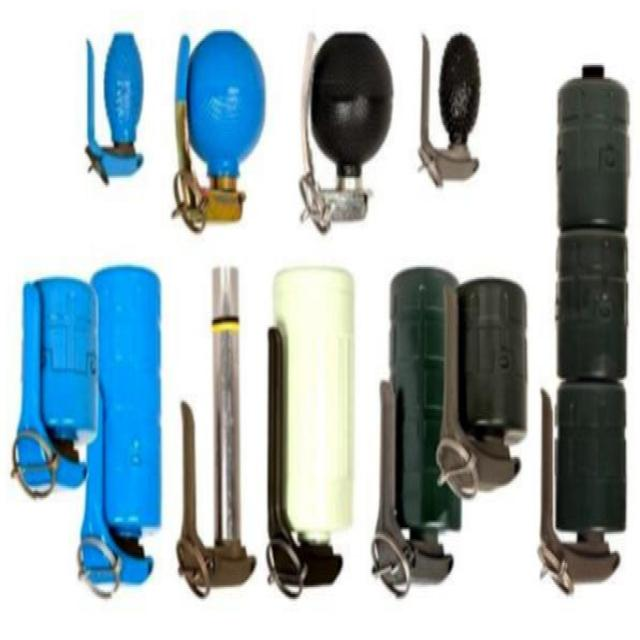grenade: (537, 69, 631, 595), (373, 265, 463, 602), (268, 263, 357, 598), (80, 265, 165, 605), (174, 30, 270, 237), (441, 280, 530, 502), (298, 32, 394, 234), (14, 275, 101, 494), (421, 30, 484, 188), (87, 34, 144, 188)
